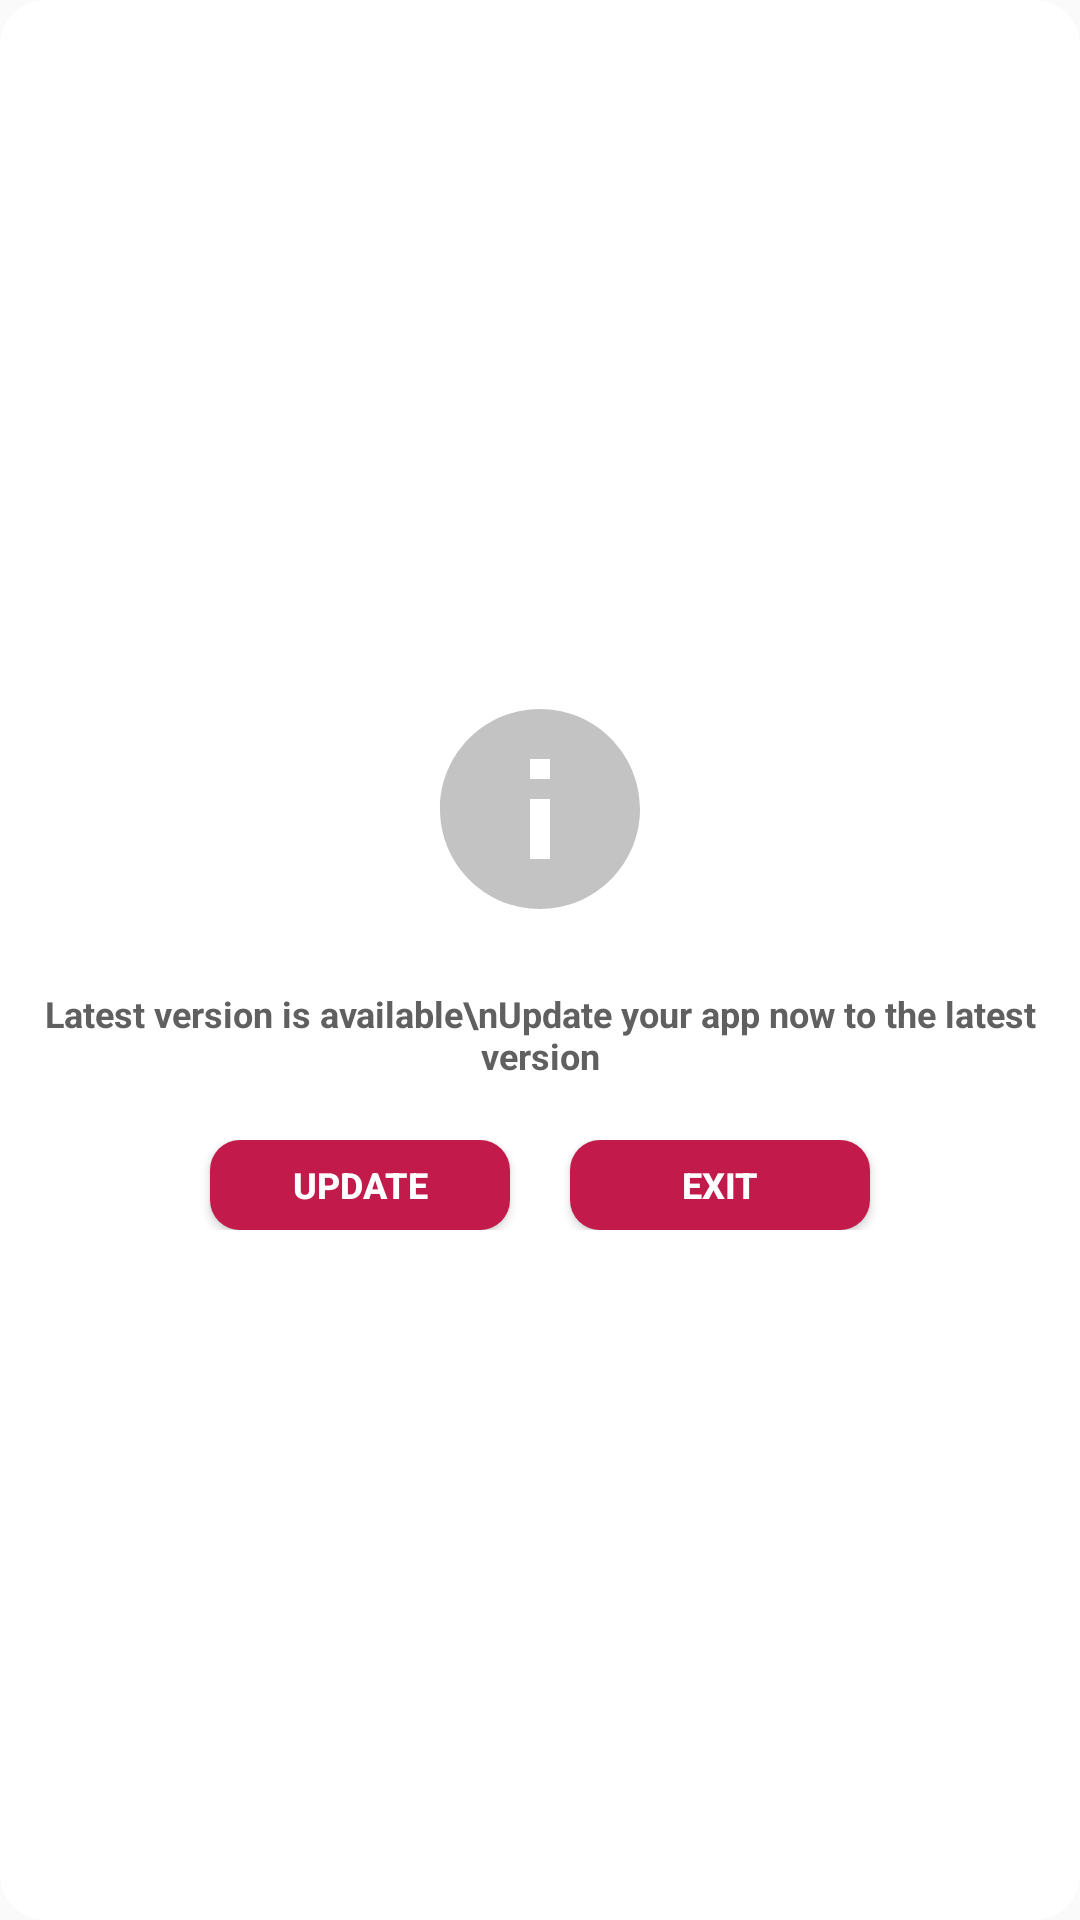

Icons on this 1080 x 1920 Android screen, each with the point to tap as [x,y]:
info: [540,809]
